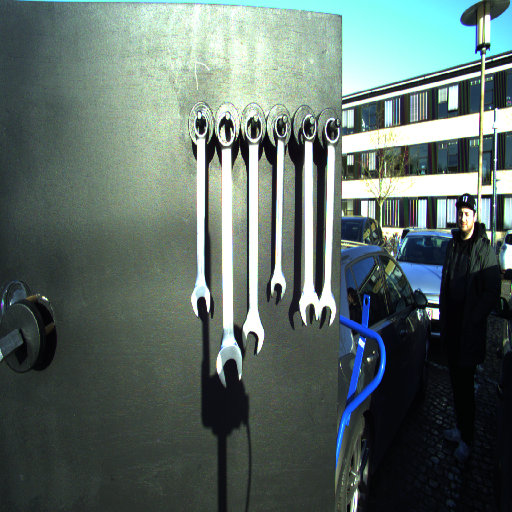bottom: (214, 348, 245, 387), (241, 319, 266, 355), (297, 290, 319, 329), (189, 287, 213, 318), (320, 290, 337, 329), (269, 272, 288, 300)
top: (214, 111, 238, 148), (243, 114, 265, 146), (322, 116, 342, 147), (271, 113, 291, 142), (300, 113, 319, 143), (191, 113, 210, 138)
